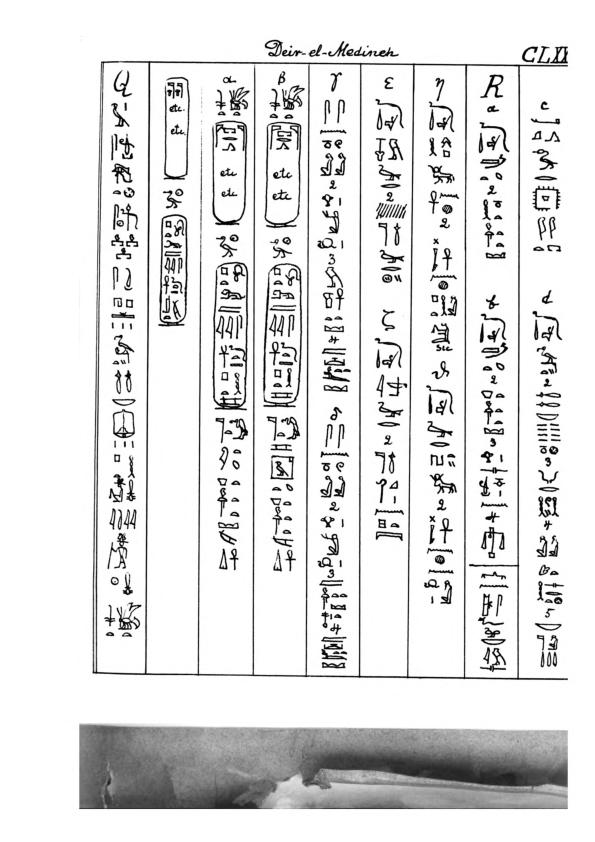circle: (260, 260, 304, 409), (210, 260, 250, 413), (209, 118, 248, 228), (264, 120, 302, 231), (159, 74, 192, 183), (158, 212, 188, 331)
